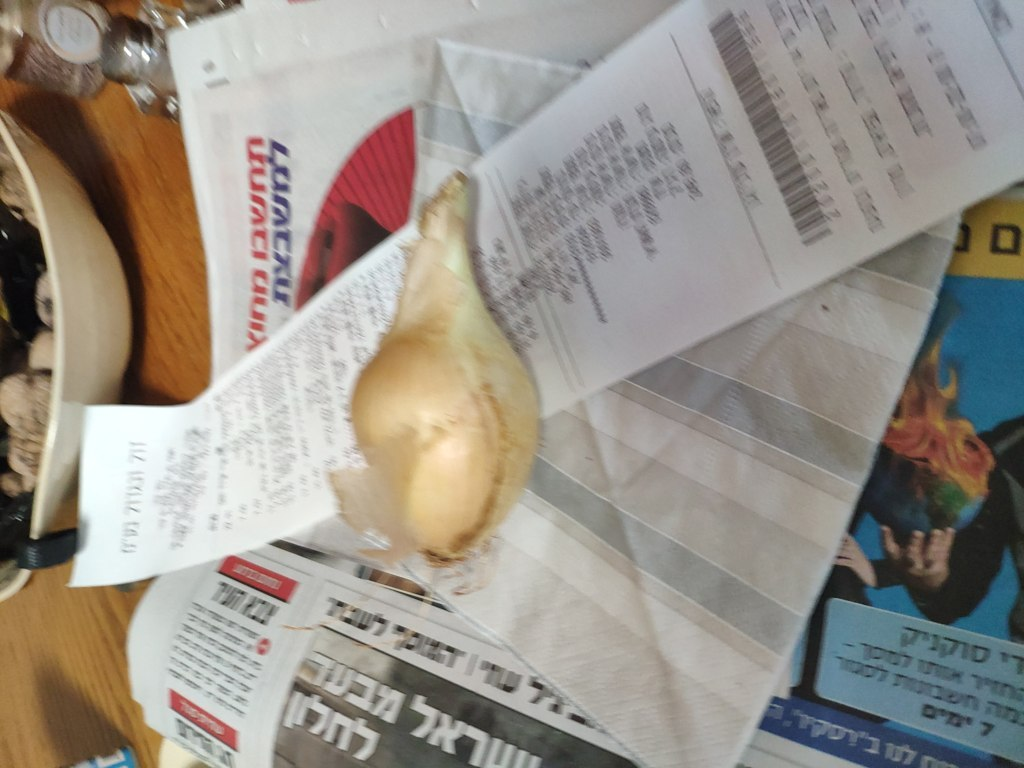Onion: (350, 225, 529, 551)
